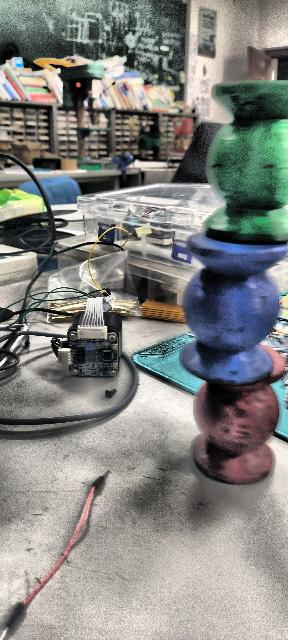blue: (180, 231, 286, 385)
green: (204, 72, 288, 248)
red: (190, 346, 288, 480)
